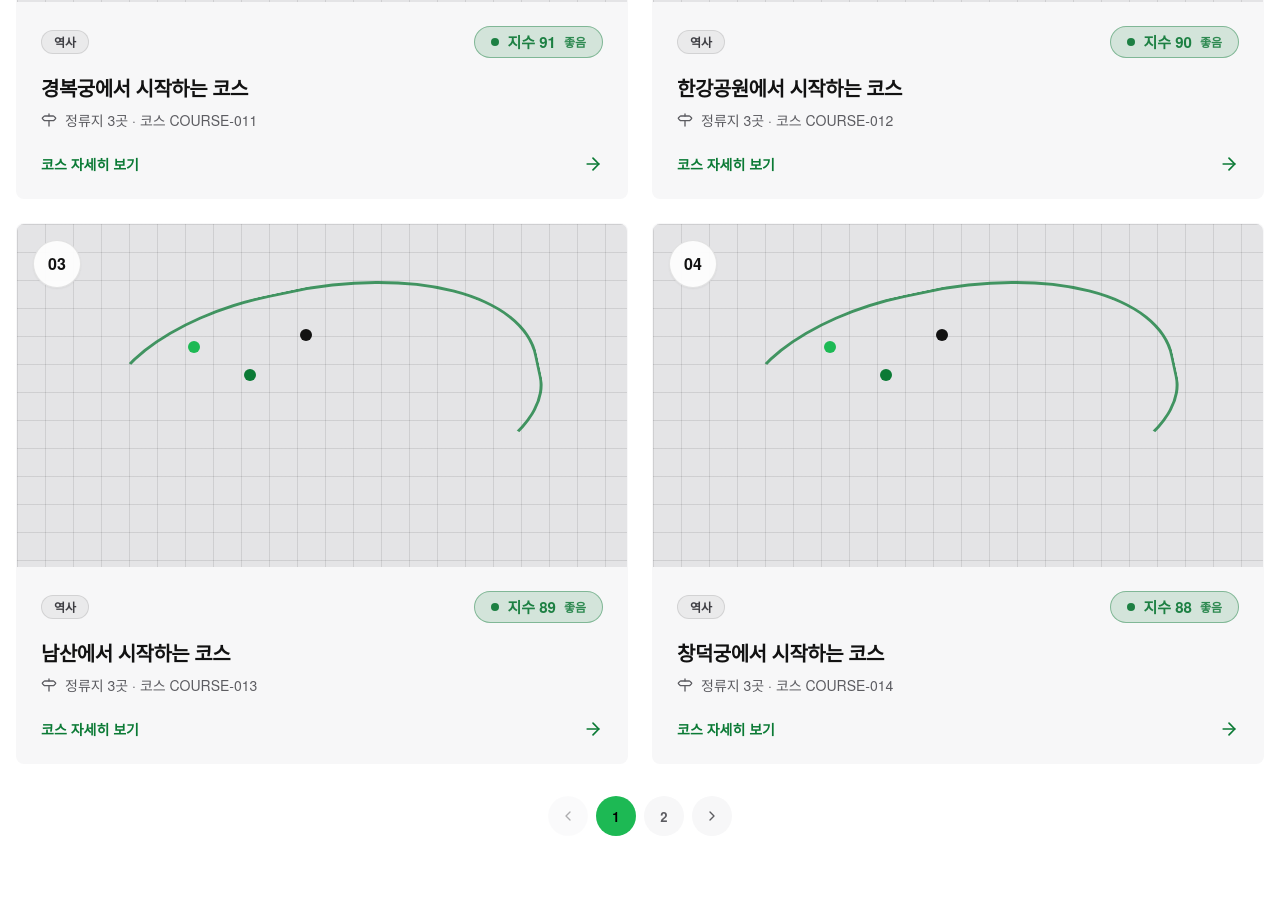
Test: RecommendationPage › 최대 20개를 한 번에 조회하고 4개씩 나누어 보여 준다
(page scrolled)
Expected: the heading "경복궁에서 시작하는 코스" is shown, [41,73,248,102]
Expected: the text named "4위" is shown, [669,240,717,288]
Click the button named "다음 페이지": {"x": 712, "y": 816} [692,796,732,836]
(page scrolled)
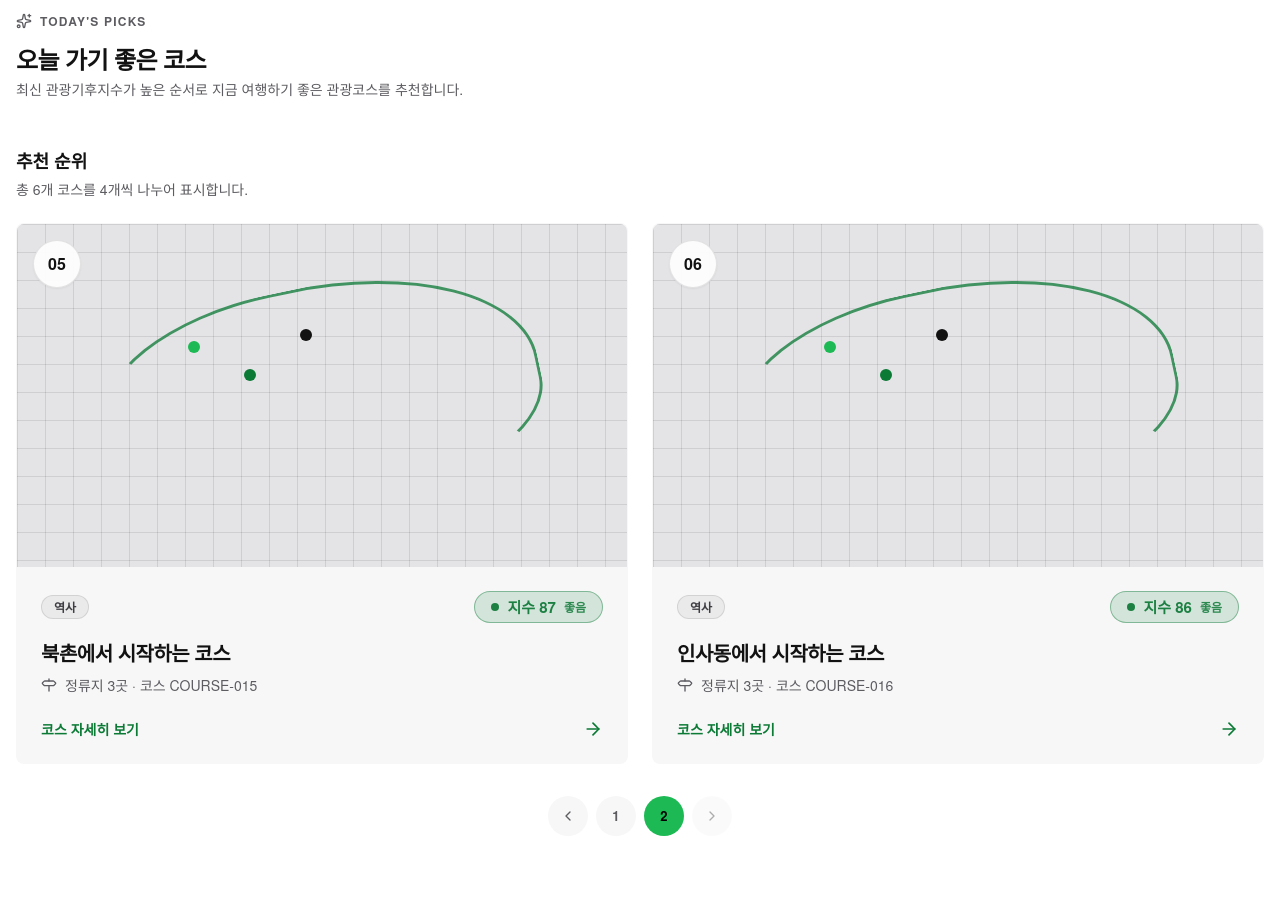
Expected: the heading "북촌에서 시작하는 코스" is shown, [41,638,230,667]
Expected: the number of list items is 2, [16,223,628,764]; [652,223,1264,764]
Expected: the text named "5위" is shown, [33,240,81,288]
